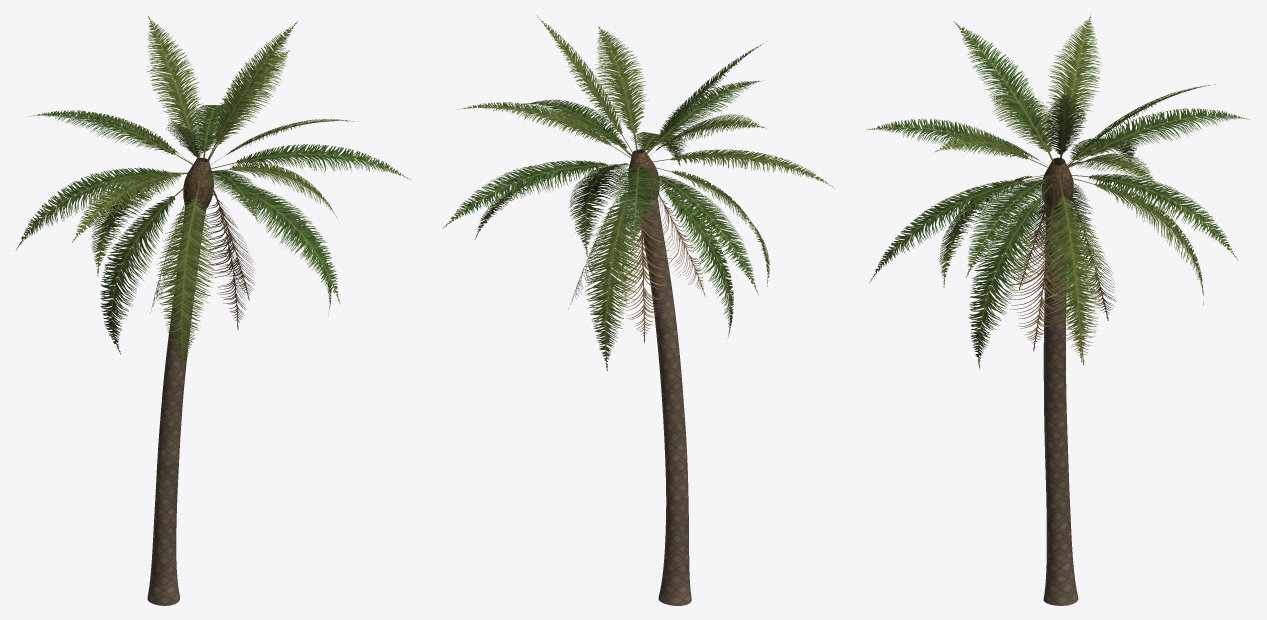
File: palm_hero_lod0.glb
3 views of the same model, side by side, from view 1: azimuth 30°, elevation 25°; view 2: azimuth 150°, elevation 25°; view 3: azimuth 270°, elevation 25° (orthographic). The views are drawn at different scales.
Parts seen in each view (by area): view 1: palm_hero_lod0; view 2: palm_hero_lod0; view 3: palm_hero_lod0.
Boxes of the visible parts, x1,y1,x2,y2 form: palm_hero_lod0: (15, 16, 410, 605); palm_hero_lod0: (442, 15, 835, 605); palm_hero_lod0: (866, 15, 1249, 605).
Size of the model in its own units: 6.35 by 9.99 by 6.07.
2 materials, 2 textured.
